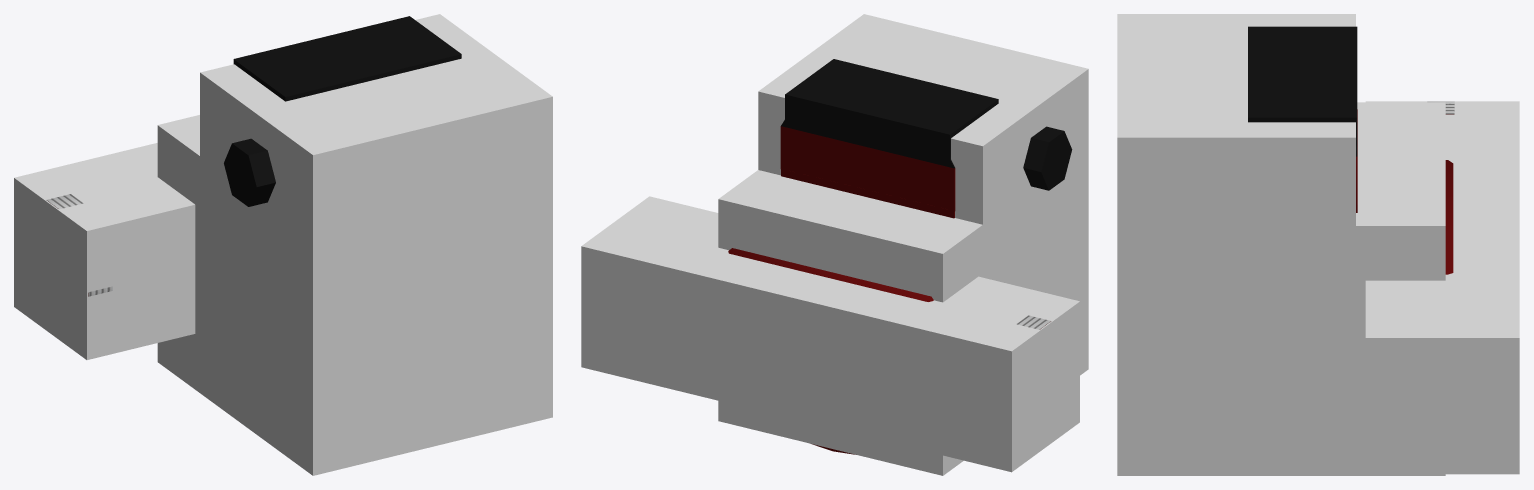
The model's file is nasos_z.fbx.
3 renders of one model, left to right at view 1: azimuth 30°, elevation 25°; view 2: azimuth 150°, elevation 25°; view 3: azimuth 270°, elevation 25°, orthographic. The views are drawn at different scales.
Parts seen in each view (by area): view 1: nasos_z_COL, nasos_z; view 2: nasos_z_COL, nasos_z; view 3: nasos_z_COL, nasos_z.
Boxes of the visible parts, x1,y1,x2,y2 form: nasos_z_COL: (14, 14, 552, 475); nasos_z: (46, 16, 461, 296); nasos_z_COL: (581, 14, 1088, 475); nasos_z: (728, 59, 1072, 454); nasos_z_COL: (1117, 14, 1519, 475); nasos_z: (1248, 26, 1454, 274).
Bounding box in the file's own units: 0.18 × 0.1234 × 0.1293.
4 materials, 2 textured.
